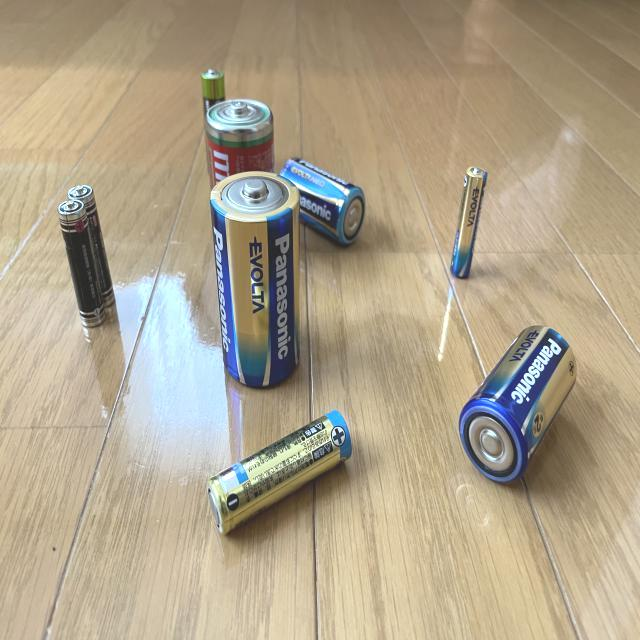AA: (203, 408, 355, 538)
AAA: (57, 196, 109, 331), (65, 183, 115, 310), (442, 163, 490, 285)
